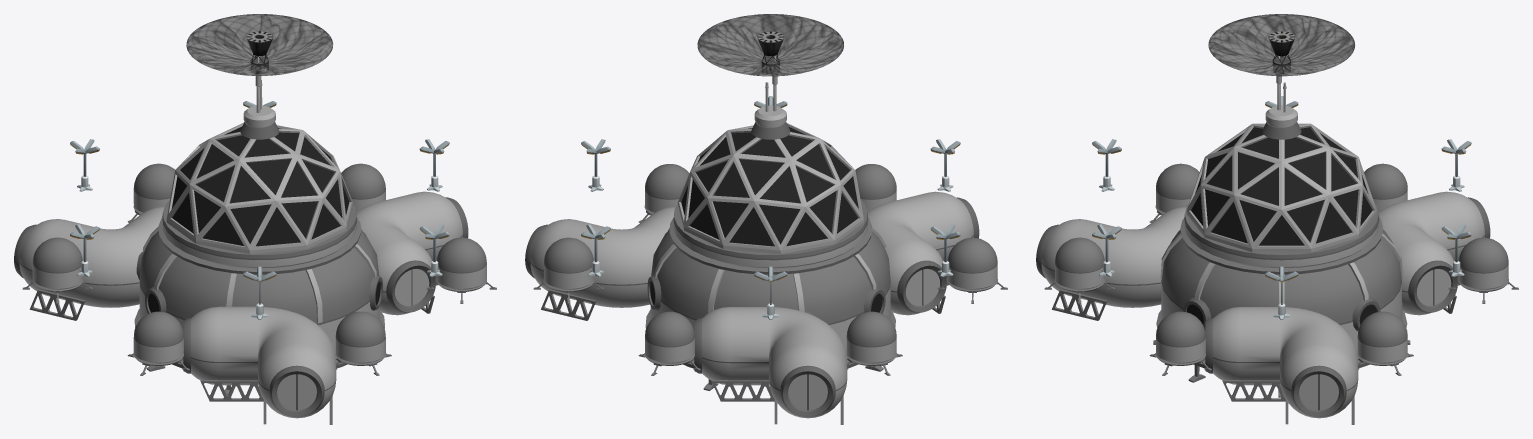
The model's file is grand_archive.glb.
3 renders of one model, left to right at view 1: azimuth 30°, elevation 25°; view 2: azimuth 150°, elevation 25°; view 3: azimuth 270°, elevation 25°, orthographic.
Visible parts, largest first — view 1: q_dome.9, q_bldg_l.7, q_base.2, q_bldg_l.5, q_bldg_l.6, n_umbrella.19, q_cyl.15, q_cyl.16, q_cyl.14, q_cyl.17, q_cyl.13, q_cyl.12 (+6 smaller); view 2: q_dome.9, q_bldg_l.6, q_base.2, q_bldg_l.7, q_bldg_l.5, n_umbrella.19, q_cyl.13, q_cyl.14, q_cyl.12, q_cyl.15, q_cyl.17, q_cyl.16 (+6 smaller); view 3: q_dome.9, q_bldg_l.5, q_base.2, q_bldg_l.6, q_bldg_l.7, n_umbrella.19, q_cyl.17, q_cyl.12, q_cyl.13, q_cyl.16, q_cyl.15, q_cyl.14 (+6 smaller).
Part boxes in pixels (x1,y1,x2,y2): q_dome.9: (158, 122, 361, 274); q_bldg_l.7: (183, 306, 336, 424); q_base.2: (134, 227, 384, 394); q_bldg_l.5: (356, 191, 468, 315); q_bldg_l.6: (14, 207, 164, 320); n_umbrella.19: (186, 14, 333, 75); q_cyl.15: (127, 311, 189, 375); q_cyl.16: (335, 311, 391, 375); q_cyl.14: (22, 237, 92, 303); q_cyl.17: (426, 237, 496, 303); q_cyl.13: (127, 163, 174, 222); q_cyl.12: (341, 163, 385, 211); q_dome.9: (669, 123, 872, 274); q_bldg_l.6: (694, 307, 847, 424); q_base.2: (645, 227, 895, 390); q_bldg_l.7: (867, 191, 979, 315); q_bldg_l.5: (525, 207, 675, 320); n_umbrella.19: (697, 14, 843, 76); q_cyl.13: (638, 311, 700, 375); q_cyl.14: (846, 311, 902, 375); q_cyl.12: (533, 237, 603, 303); q_cyl.15: (937, 237, 1007, 303); q_cyl.17: (638, 164, 689, 222); q_cyl.16: (855, 164, 896, 211); q_dome.9: (1180, 123, 1383, 274); q_bldg_l.5: (1205, 307, 1358, 424); q_base.2: (1153, 230, 1410, 397); q_bldg_l.6: (1378, 191, 1490, 315); q_bldg_l.7: (1036, 207, 1186, 320); n_umbrella.19: (1208, 14, 1355, 76); q_cyl.17: (1149, 311, 1211, 375); q_cyl.12: (1357, 311, 1413, 375); q_cyl.13: (1448, 237, 1518, 303); q_cyl.16: (1044, 237, 1114, 303); q_cyl.15: (1149, 163, 1199, 222); q_cyl.14: (1364, 163, 1407, 211).
Size of the model in its own units: 7.62 by 5.53 by 7.89.
8 materials, 8 textured.
